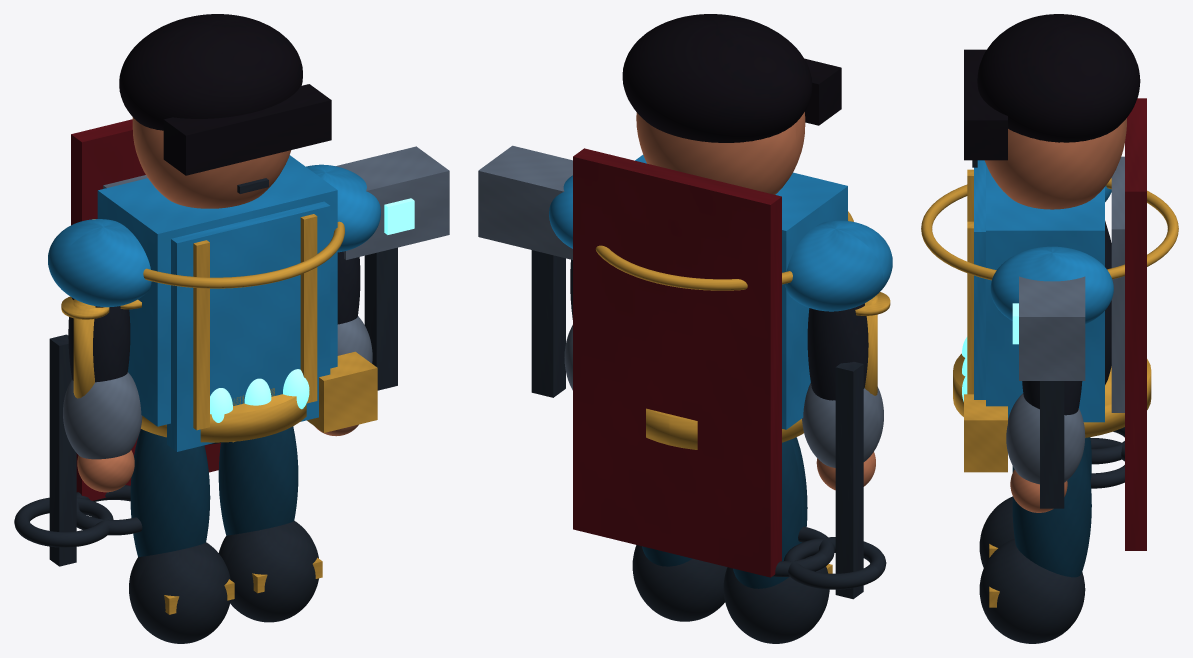
File: Advanced.glb
3 views of the same model, side by side, from view 1: azimuth 30°, elevation 25°; view 2: azimuth 150°, elevation 25°; view 3: azimuth 270°, elevation 25° (orthographic). The views are drawn at different scales.
Parts seen in each view (by area): view 1: MerchantVest, Hair, ChestPlate, HairFringe, Leg, Boot, Boot.001, Leg.001, Shoulder, HammerHead, Head, Cape (+19 smaller); view 2: Cape, Hair, HammerHead, Shoulder, Head, ChestPlate, CartHandle, Boot, HammerHandle, Boot.001, Arm, Gauntlet (+9 smaller); view 3: Hair, ChestPlate, Cape, Head, Boot.001, HammerHead, Leg.001, Shoulder.001, Gauntlet.001, HairFringe, BackArmor, HammerHandle (+11 smaller).
Boxes of the visible parts, <box> form: MerchantVest: <box>167,201,330,451</box>; Hair: <box>119,14,302,130</box>; ChestPlate: <box>97,155,337,426</box>; HairFringe: <box>163,84,331,175</box>; Leg: <box>130,429,210,556</box>; Boot: <box>129,542,230,643</box>; Boot.001: <box>218,521,318,622</box>; Leg.001: <box>218,426,298,535</box>; Shoulder: <box>48,219,151,307</box>; HammerHead: <box>336,146,449,259</box>; Head: <box>132,117,291,208</box>; Cape: <box>71,119,220,500</box>; Cape: <box>573,148,781,577</box>; Hair: <box>622,14,812,142</box>; HammerHead: <box>478,145,572,259</box>; Shoulder: <box>784,220,892,311</box>; Head: <box>636,112,805,194</box>; ChestPlate: <box>635,155,847,429</box>; CartHandle: <box>835,362,863,599</box>; Boot: <box>723,556,829,643</box>; HammerHandle: <box>531,250,565,397</box>; Boot.001: <box>632,545,727,621</box>; Arm: <box>807,303,868,400</box>; Gauntlet: <box>802,382,883,467</box>; Hair: <box>977,14,1140,142</box>; ChestPlate: <box>986,164,1104,422</box>; Cape: <box>1125,98,1146,550</box>; Head: <box>984,118,1126,209</box>; Boot.001: <box>979,538,1085,643</box>; HammerHead: <box>1019,276,1085,380</box>; Leg.001: <box>1012,447,1091,577</box>; Shoulder.001: <box>990,246,1113,324</box>; Gauntlet.001: <box>1006,393,1085,484</box>; HairFringe: <box>964,49,1007,160</box>; BackArmor: <box>1111,156,1124,412</box>; HammerHandle: <box>1040,381,1064,508</box>.
Bounding box in the file's own units: 2.05 × 2.96 × 1.17.
12 materials, 9 textured.
